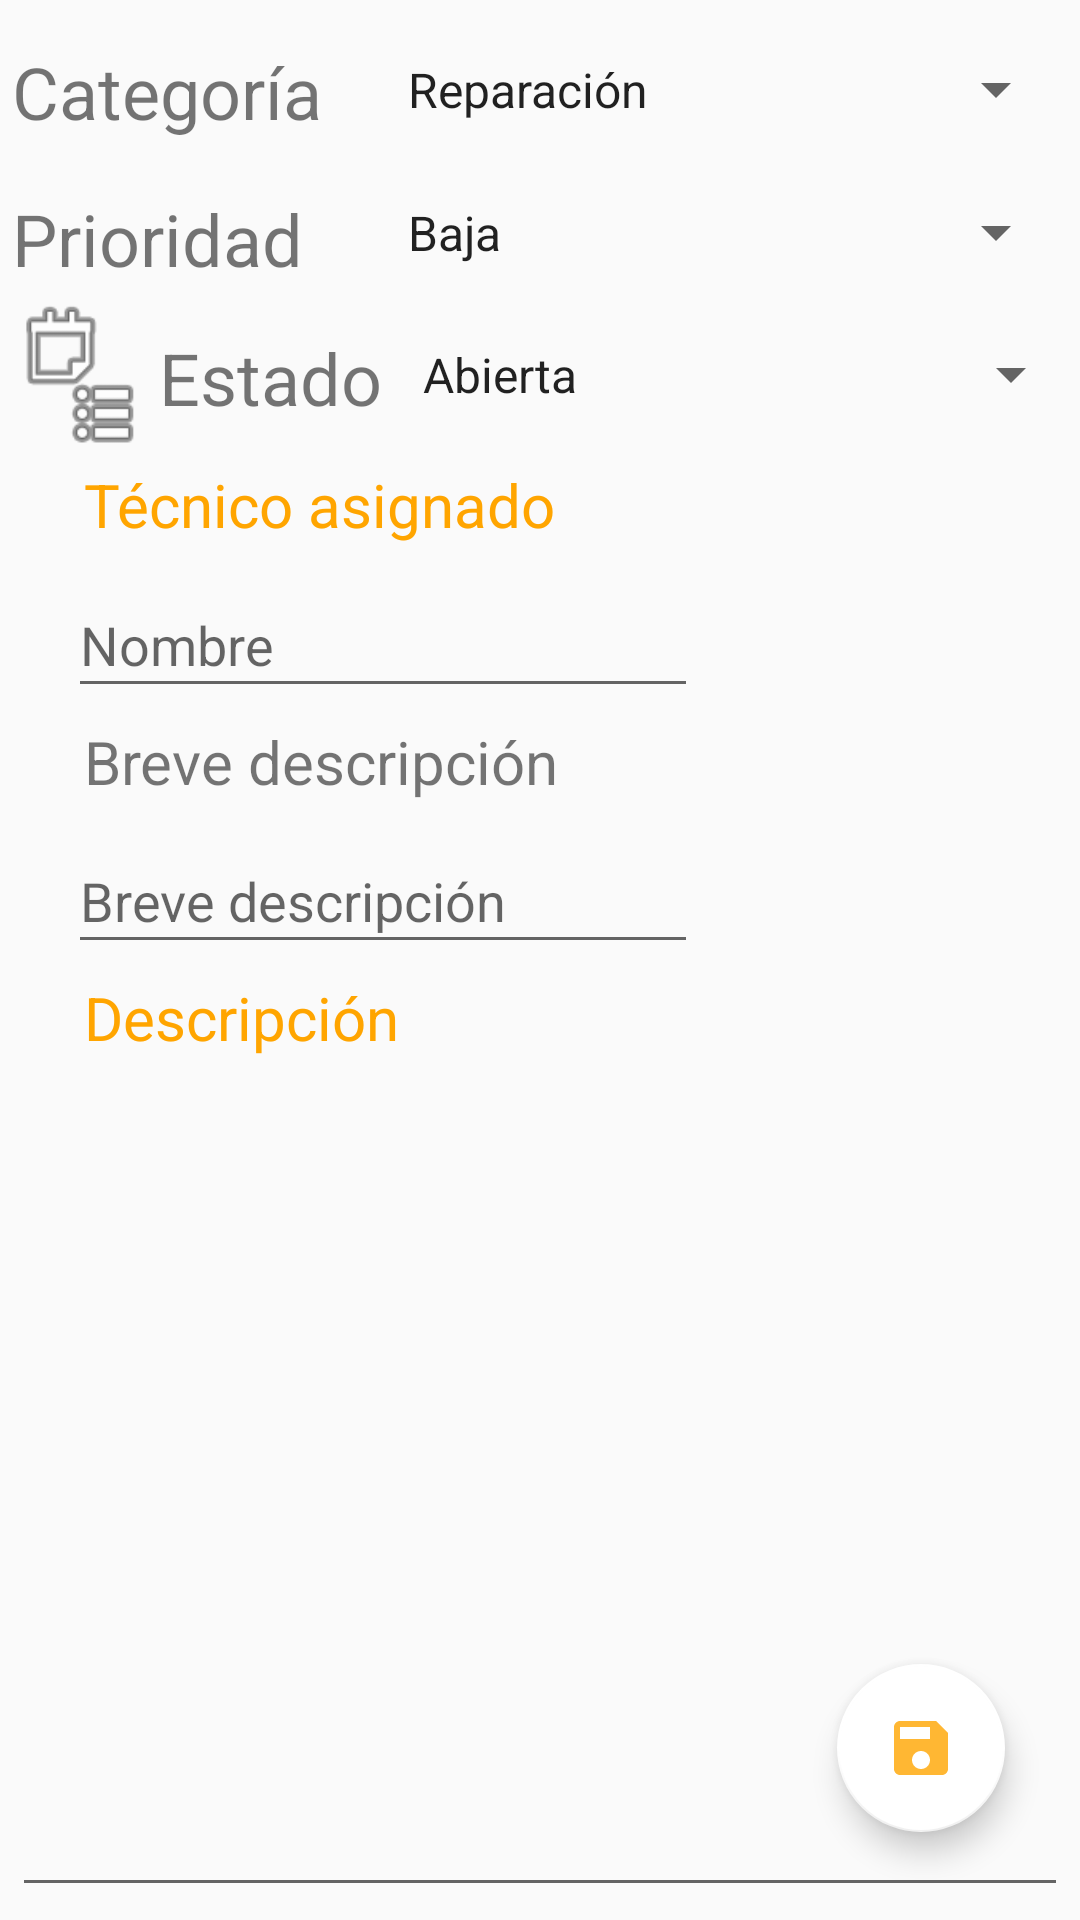

Named icons in this screenshot (1080 × 1920) and their bounding boxes, (x1, y1, x2, y2):
agenda: (26, 307, 134, 443)
